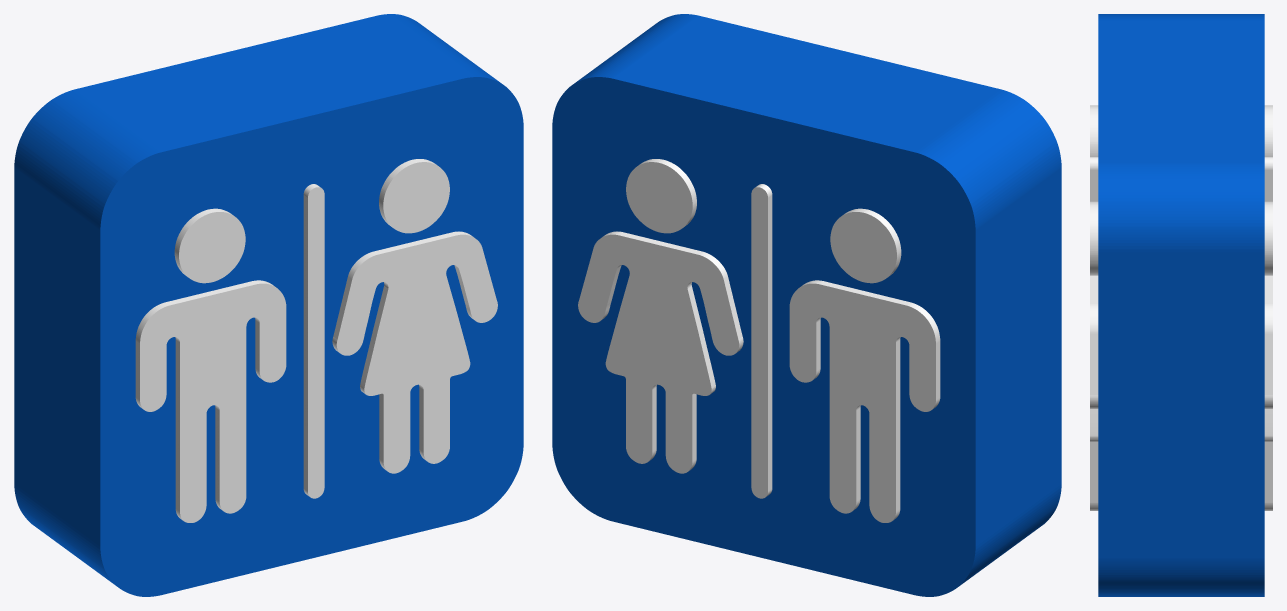
3 renders of one model, left to right at view 1: azimuth 30°, elevation 25°; view 2: azimuth 150°, elevation 25°; view 3: azimuth 270°, elevation 25°, orthographic. The views are drawn at different scales.
Parts seen in each view (by area): view 1: U+1F6BB_layer00_obj00, U+1F6BB_layer01_obj00; view 2: U+1F6BB_layer00_obj00, U+1F6BB_layer01_obj00; view 3: U+1F6BB_layer00_obj00, U+1F6BB_layer01_obj00.
Part boxes in pixels (<box>): U+1F6BB_layer00_obj00: <box>14,14,523,596</box>; U+1F6BB_layer01_obj00: <box>135,159,497,522</box>; U+1F6BB_layer00_obj00: <box>552,14,1061,596</box>; U+1F6BB_layer01_obj00: <box>578,159,940,522</box>; U+1F6BB_layer00_obj00: <box>1098,14,1264,596</box>; U+1F6BB_layer01_obj00: <box>1090,105,1272,510</box>.
Bounding box in the file's own units: 0.5678 × 0.5677 × 0.22.
